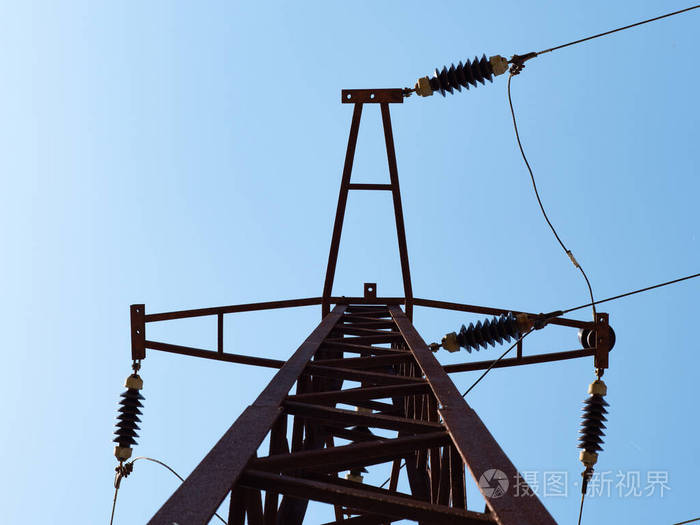insulator: (432, 51, 495, 97), (459, 310, 521, 351), (111, 387, 146, 448), (575, 398, 611, 451)
